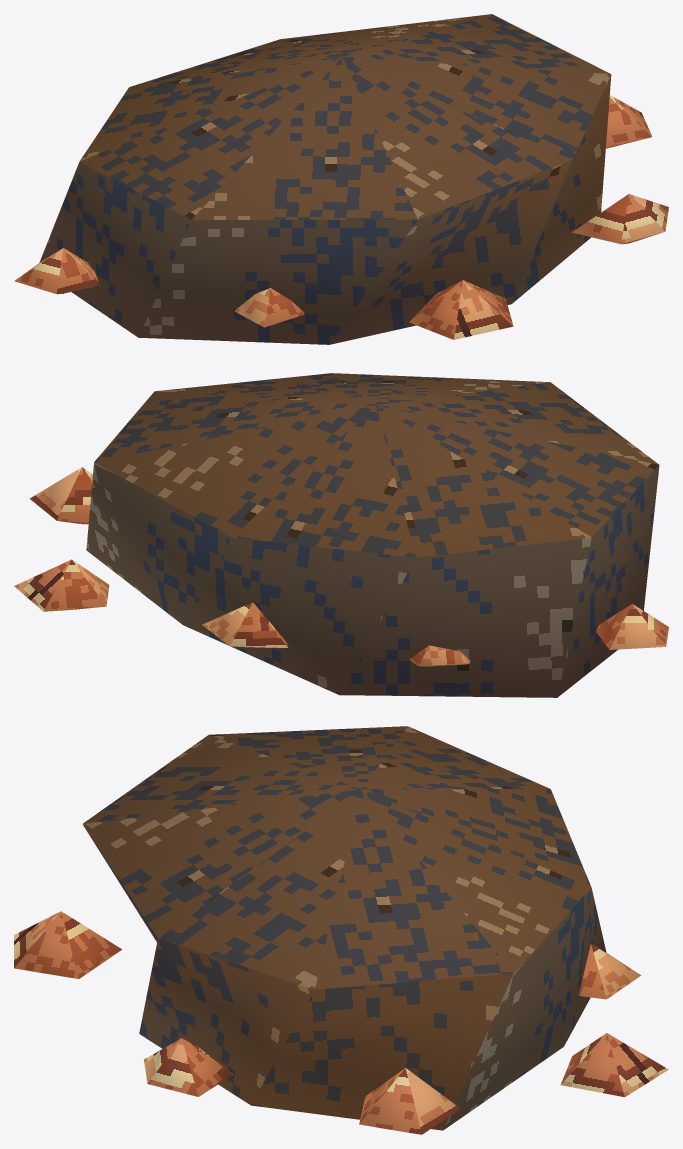
Rendered from wmine.ore_pile__big.glb.
3 renders of one model, top to bottom at view 1: azimuth 30°, elevation 25°; view 2: azimuth 150°, elevation 25°; view 3: azimuth 270°, elevation 25°, orthographic. The views are drawn at different scales.
Visible parts, largest first — view 1: kit_mound, kit_lumps; view 2: kit_mound, kit_lumps; view 3: kit_mound, kit_lumps.
Boxes of the visible parts, <box> form: kit_mound: <box>39,14,611,344</box>; kit_lumps: <box>14,95,668,339</box>; kit_mound: <box>86,373,659,697</box>; kit_lumps: <box>14,467,668,666</box>; kit_mound: <box>82,726,606,1130</box>; kit_lumps: <box>14,911,668,1134</box>.
Size of the model in its own units: 5.75 by 1.7 by 4.64.
2 materials, 2 textured.
